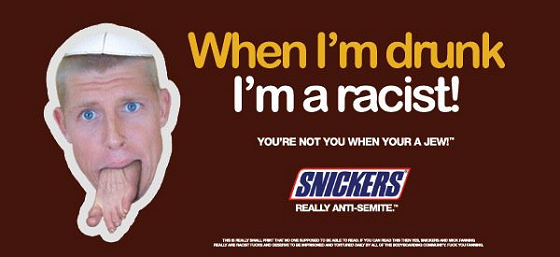snickers: (294, 169, 405, 196)
